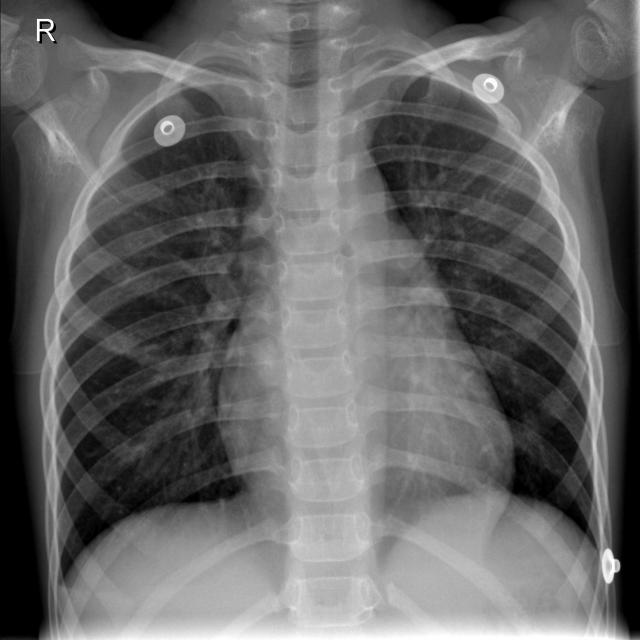no-pneumonia: (372, 78, 596, 536), (60, 89, 262, 572)
